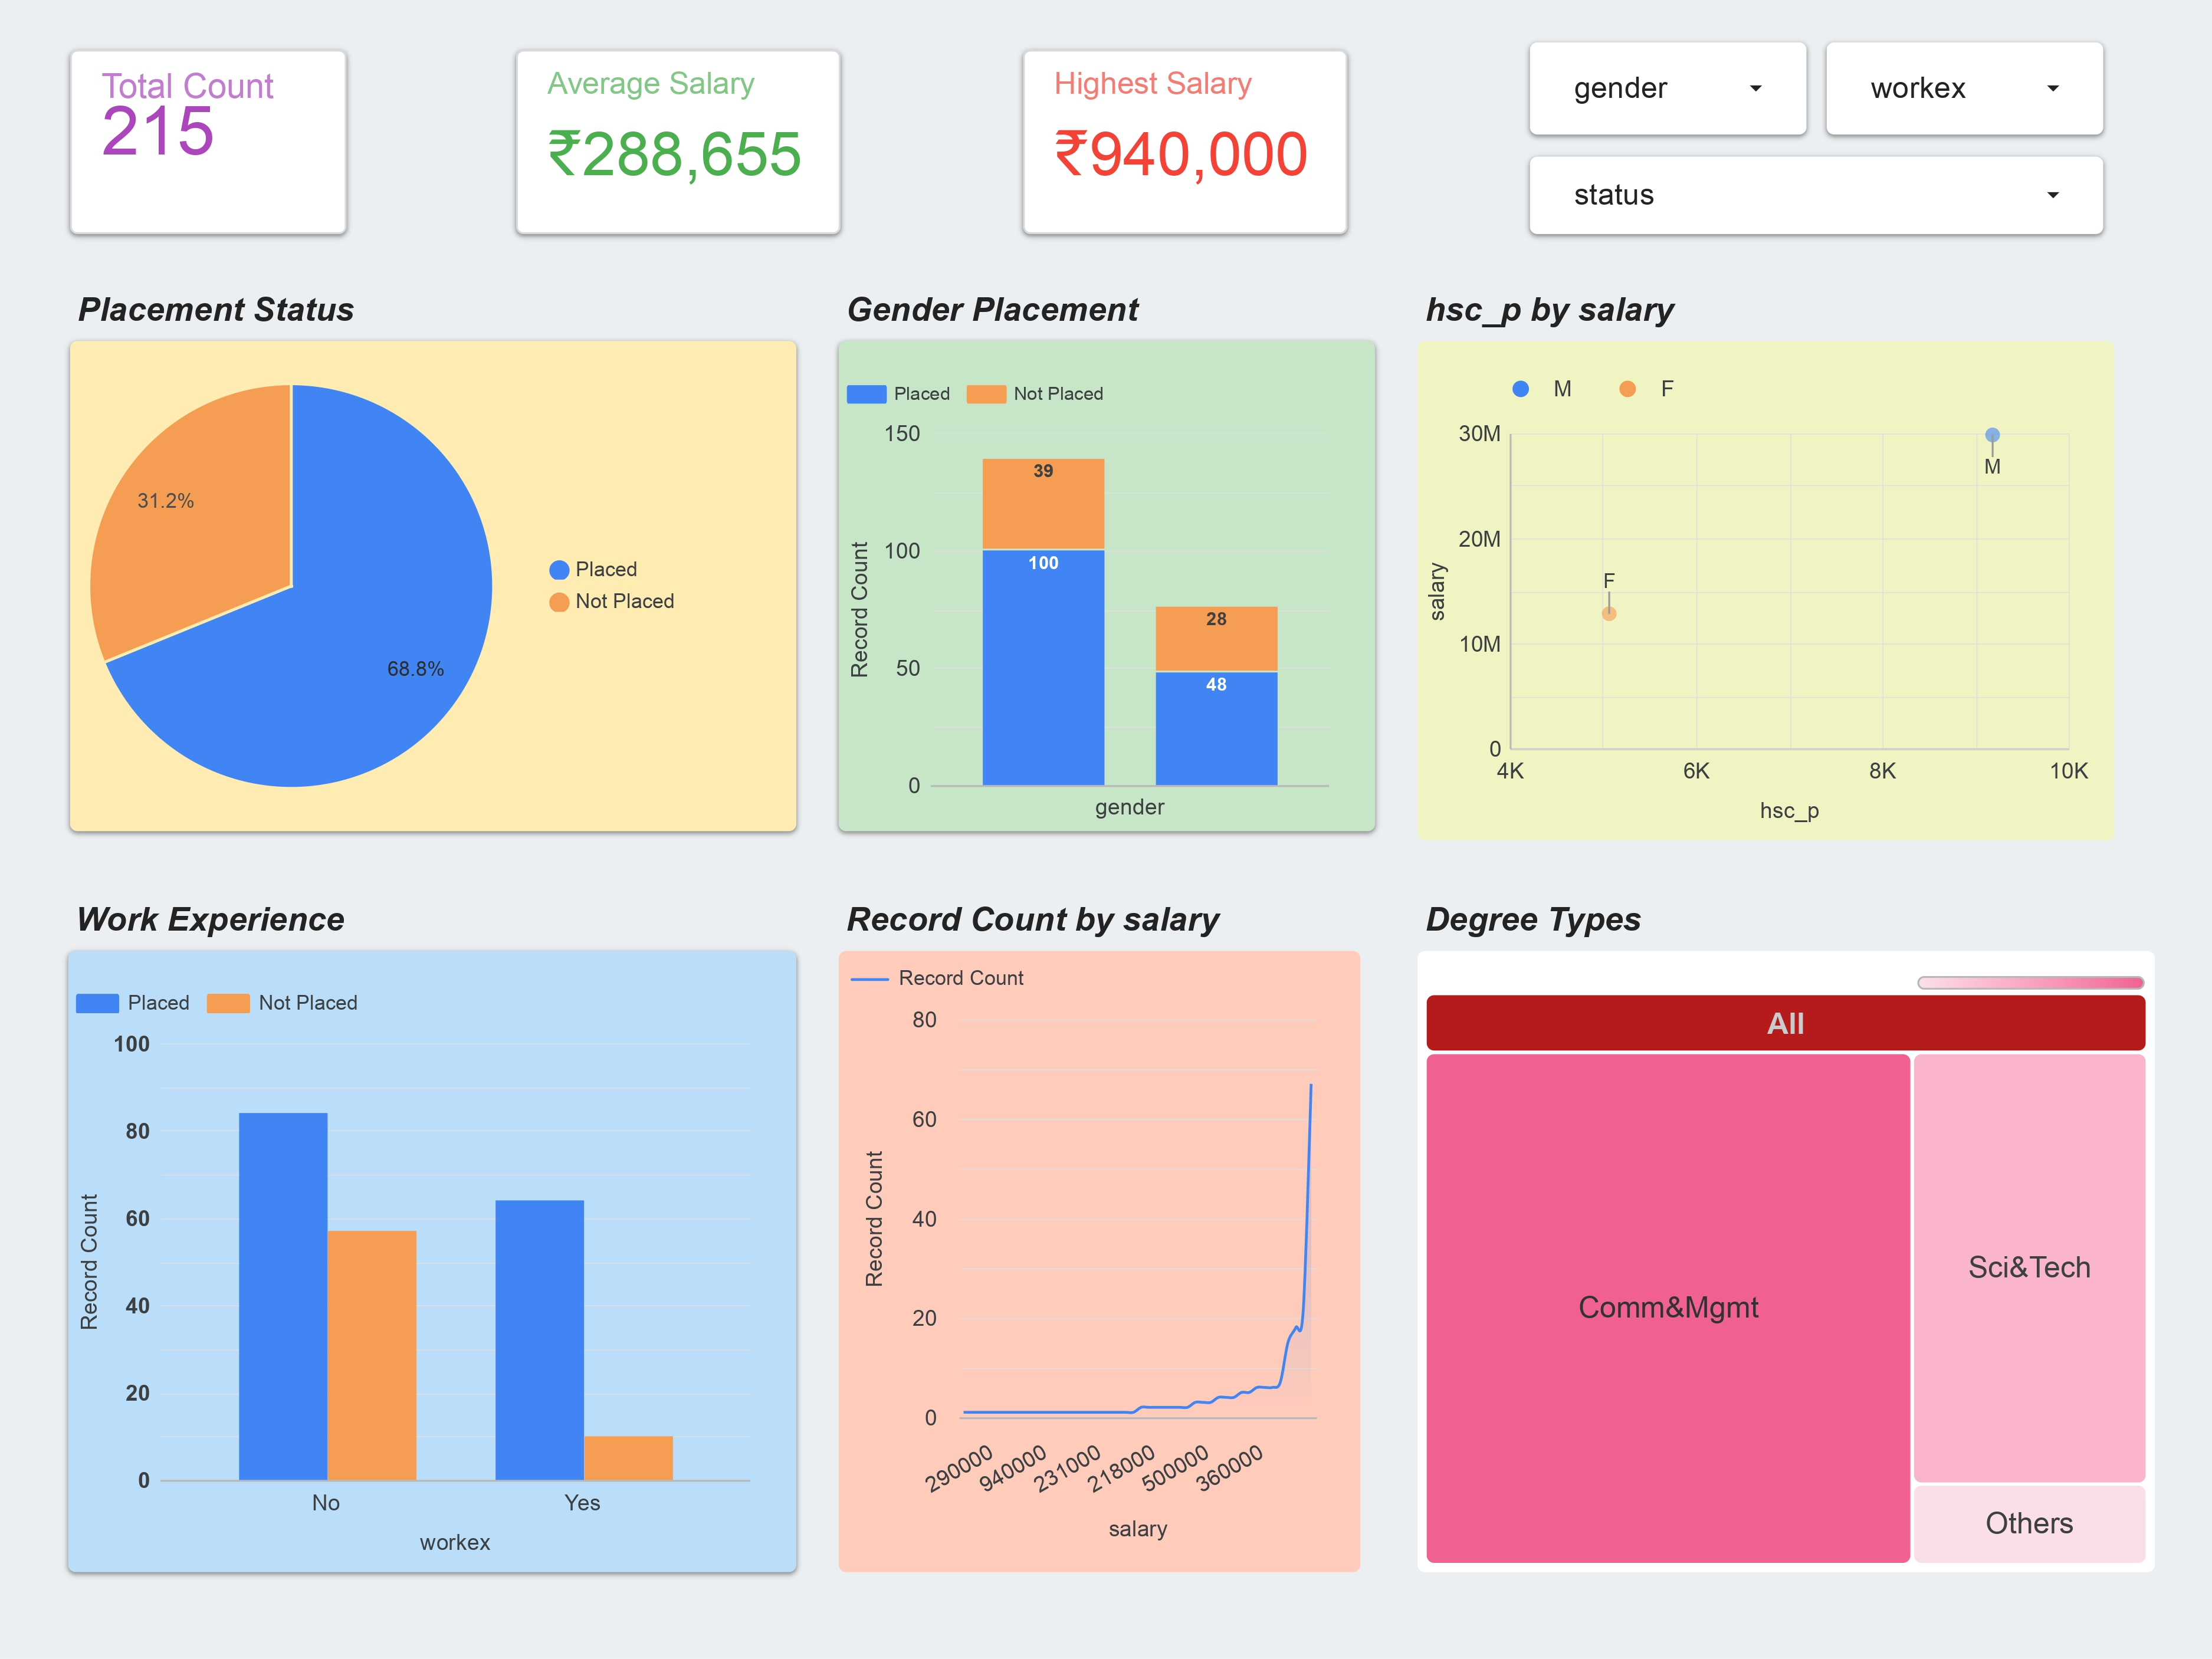

This screenshot's page, from the dashboard's own definition file:
{"tool":"tableau","page":{"name":"Dashboard 1","canvas":[1657,851],"ordinal":0},"visuals":[{"type":"text","box":[8,8,1641,75]},{"type":"worksheet","title":"Sheet 1","mark":"Pie","box":[8,83,324,319]},{"type":"worksheet","title":"Sheet 2","mark":"Automatic","rows":["Placement.csv_66262F4FCC774E2292AA168C5B72C633"],"cols":["status"],"box":[332,83,578.5,319]},{"type":"worksheet","title":"Sheet 5","mark":"Automatic","rows":["mba_p"],"cols":["degree_p"],"box":[910.5,83,578.5,319]},{"type":"legend","title":"Sheet 1","param":"[federated.0vz2xcj1aoyq6t187rodj0gogofv].[none:status:nk]","box":[1489,83,160,72]},{"type":"legend","title":"Sheet 1","param":"[federated.0vz2xcj1aoyq6t187rodj0gogofv].[__tableau_internal_object_id__].[cnt:P","box":[1489,155,160,51]},{"type":"legend","title":"Sheet 2","param":"[federated.0vz2xcj1aoyq6t187rodj0gogofv].[none:gender:nk]","box":[1489,206,160,72]},{"type":"legend","title":"Sheet 3","param":"[federated.0vz2xcj1aoyq6t187rodj0gogofv].[none:workex:nk]","box":[1489,278,160,72]},{"type":"legend","title":"Sheet 4","param":"[federated.0vz2xcj1aoyq6t187rodj0gogofv].[sum:salary:qk]","box":[1489,350,160,73]},{"type":"worksheet","title":"Sheet 4","mark":"Automatic","box":[8,402,622,441]},{"type":"worksheet","title":"Sheet 6","mark":"Automatic","rows":["specialisation"],"cols":["salary"],"box":[630,402,859,182]},{"type":"legend","title":"Sheet 5","param":"[federated.0vz2xcj1aoyq6t187rodj0gogofv].[sum:salary:qk]","box":[1489,423,160,51]},{"type":"worksheet","title":"Sheet 3","mark":"Automatic","rows":["Placement.csv_66262F4FCC774E2292AA168C5B72C633"],"cols":["status","workex"],"box":[630,584,859,259]}]}

Visuals, with their boxes on the page's 1657x851 design canvas (x1, y1, x2, y2). These are canvas units, not pixel positions in the 2212x1659 screenshot, which may show the page scaled, cropped or inside an application window:
text: box=[8, 8, 1649, 83]
"Sheet 1" worksheet (Pie marks): box=[8, 83, 332, 402]
"Sheet 2" worksheet: box=[332, 83, 910, 402]
"Sheet 5" worksheet: box=[910, 83, 1489, 402]
"Sheet 1" legend: box=[1489, 83, 1649, 155]
"Sheet 1" legend: box=[1489, 155, 1649, 206]
"Sheet 2" legend: box=[1489, 206, 1649, 278]
"Sheet 3" legend: box=[1489, 278, 1649, 350]
"Sheet 4" legend: box=[1489, 350, 1649, 423]
"Sheet 4" worksheet: box=[8, 402, 630, 843]
"Sheet 6" worksheet: box=[630, 402, 1489, 584]
"Sheet 5" legend: box=[1489, 423, 1649, 474]
"Sheet 3" worksheet: box=[630, 584, 1489, 843]
